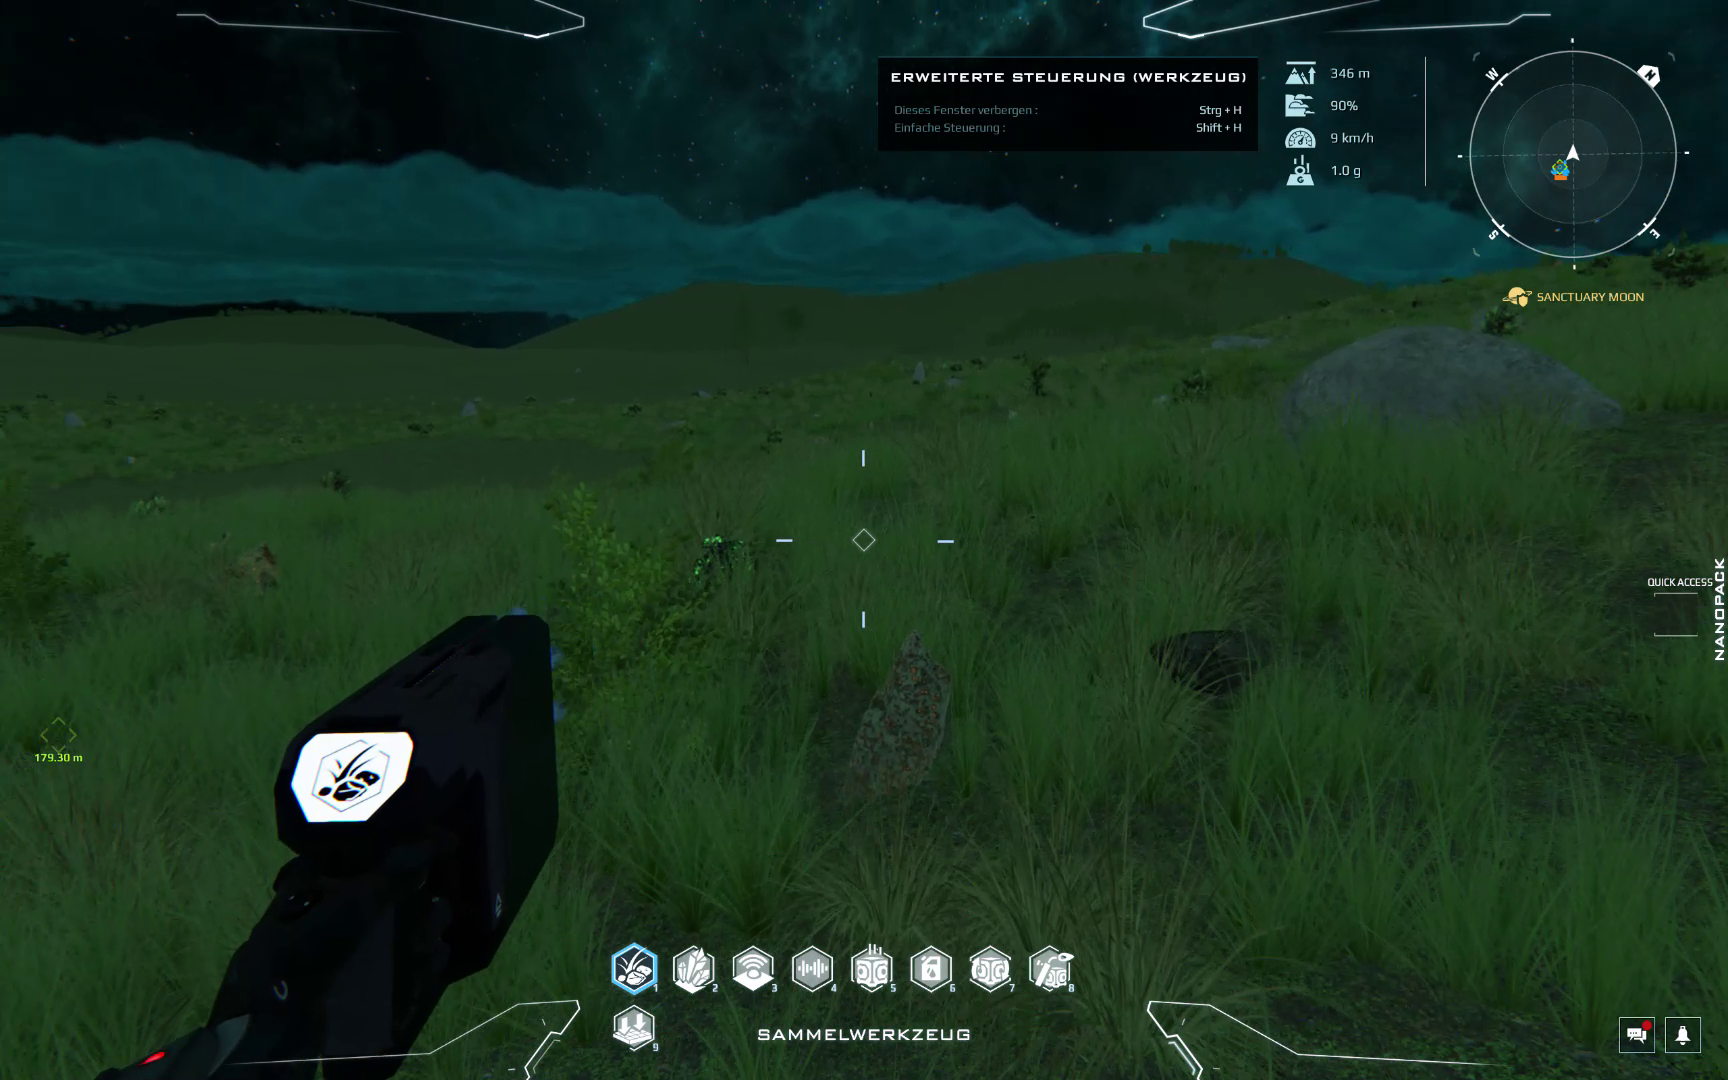Ore: (840, 632, 957, 822), (1140, 627, 1278, 699), (685, 533, 761, 589), (218, 545, 286, 591)
